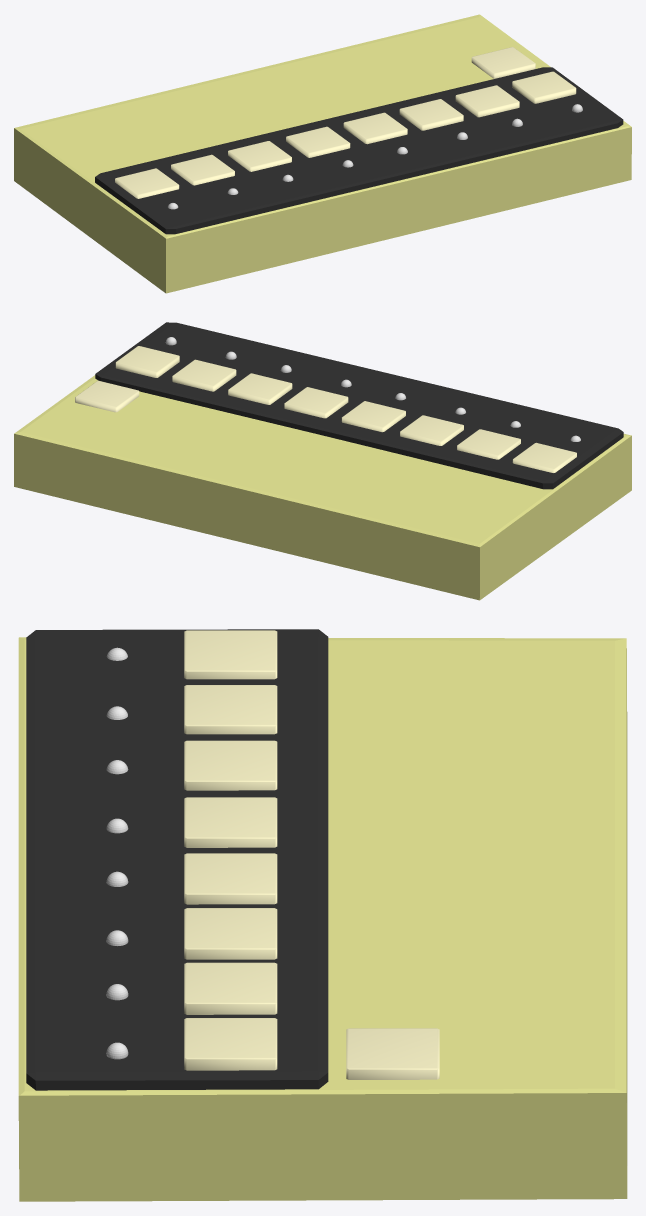
The model's file is synth.glb.
The picture shows the model from 3 angles, top to bottom: view 1: azimuth 30°, elevation 25°; view 2: azimuth 150°, elevation 25°; view 3: azimuth 270°, elevation 25°; orthographic projection. The views are drawn at different scales.
Parts seen in each view (by area): view 1: mainBody, buttonPad, button-8, button-7, button-6, play-button, button-5, button-4, button-3, button-2, button-1; view 2: mainBody, buttonPad, button-8, button-7, play-button, button-6, button-5, button-4, button-3, button-2, button-1; view 3: mainBody, buttonPad, button-8, button-7, button-6, play-button, button-5, button-4, button-3, button-2, button-1.
Boxes of the visible parts, <box> form: mainBody: <box>14,14,631,293</box>; buttonPad: <box>95,67,623,234</box>; button-8: <box>512,71,576,103</box>; button-7: <box>455,85,519,117</box>; button-6: <box>399,99,463,130</box>; play-button: <box>471,47,535,78</box>; button-5: <box>343,112,407,144</box>; button-4: <box>286,126,350,157</box>; button-3: <box>228,141,291,171</box>; button-2: <box>171,154,234,185</box>; button-1: <box>115,168,179,198</box>; mainBody: <box>14,375,631,600</box>; buttonPad: <box>95,322,623,489</box>; button-8: <box>115,346,179,377</box>; button-7: <box>172,359,236,391</box>; play-button: <box>75,380,139,412</box>; button-6: <box>228,373,292,404</box>; button-5: <box>284,387,348,418</box>; button-4: <box>341,401,405,432</box>; button-3: <box>400,415,463,445</box>; button-2: <box>457,429,520,459</box>; button-1: <box>512,442,576,472</box>; mainBody: <box>18,637,627,1201</box>; buttonPad: <box>26,629,328,1090</box>; button-8: <box>184,1018,277,1070</box>; button-7: <box>184,962,277,1014</box>; button-6: <box>184,908,277,959</box>; play-button: <box>346,1028,439,1079</box>; button-5: <box>184,853,277,904</box>; button-4: <box>184,797,277,847</box>; button-3: <box>184,740,277,790</box>; button-2: <box>184,685,277,734</box>; button-1: <box>184,630,277,679</box>.
Bounding box in the file's own units: 1.76 × 0.2343 × 0.9953.
